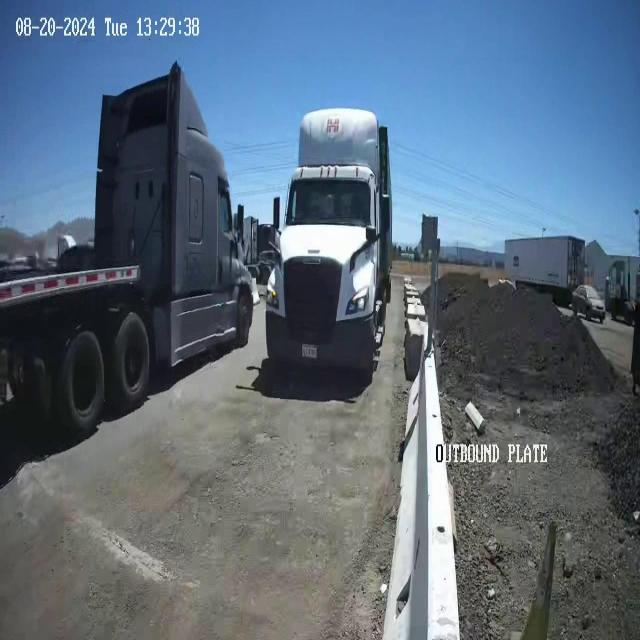TRUCK_IN: (0, 57, 256, 438)
TRUCK_OUT: (263, 99, 398, 391)
